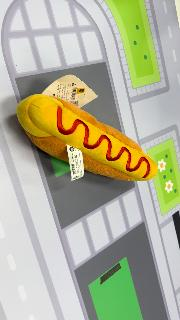hotdog: (17, 94, 159, 182)
